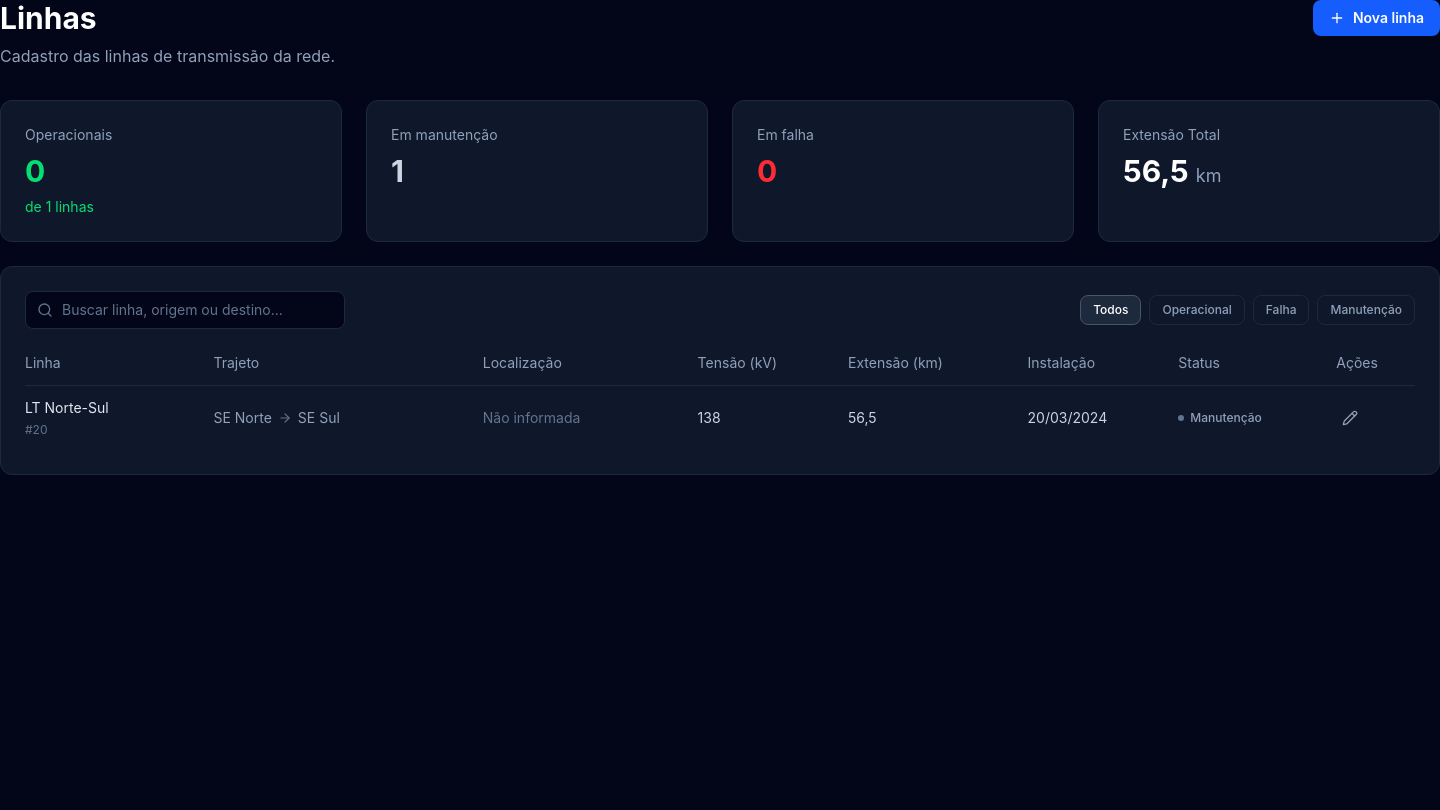
cadastro › exige os campos obrigatorios, mas nao as coordenadas
Click the button "Nova linha".
click(1376, 18)  # box [1313, 0, 1439, 36]
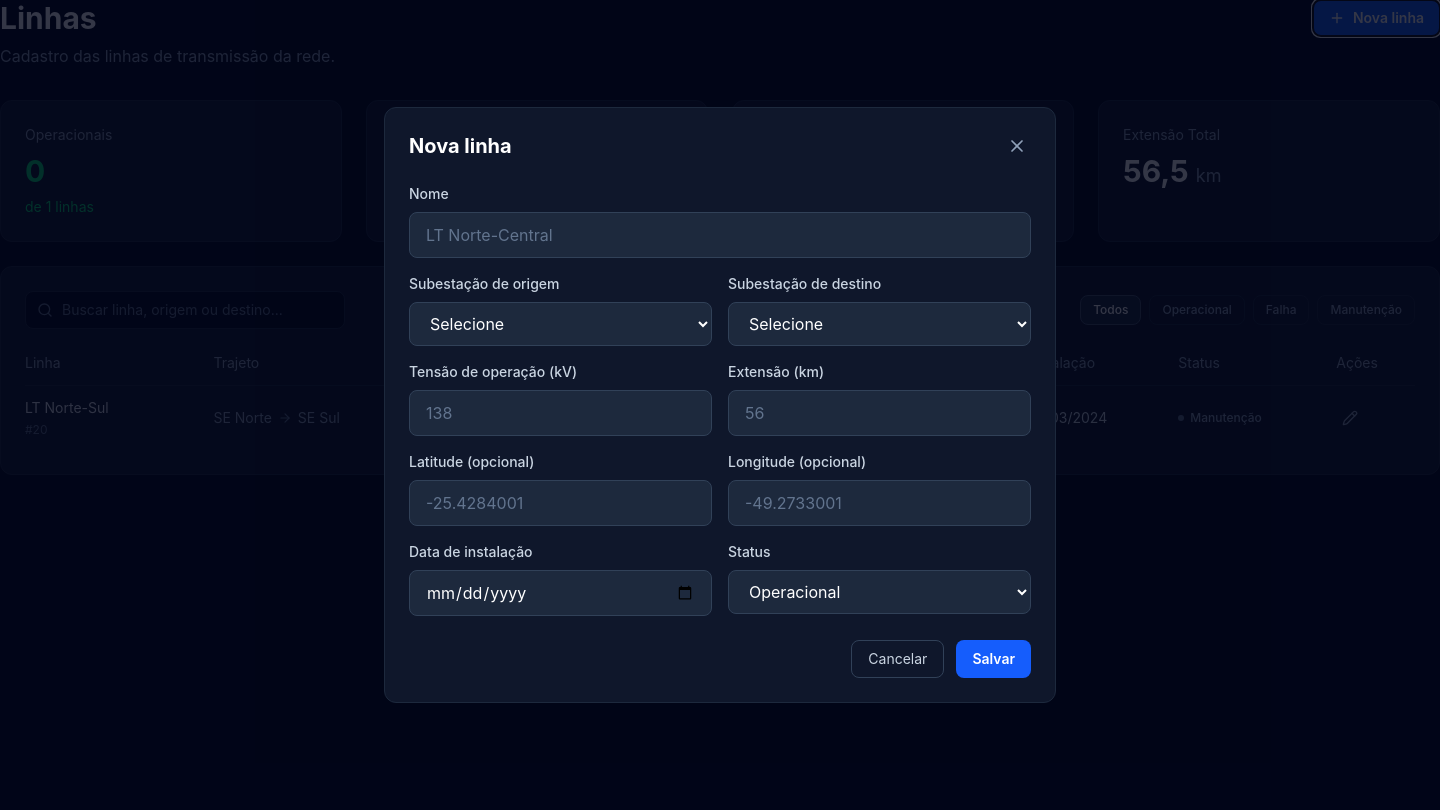
Click the button "Salvar".
click(994, 659)  # box [956, 640, 1031, 678]
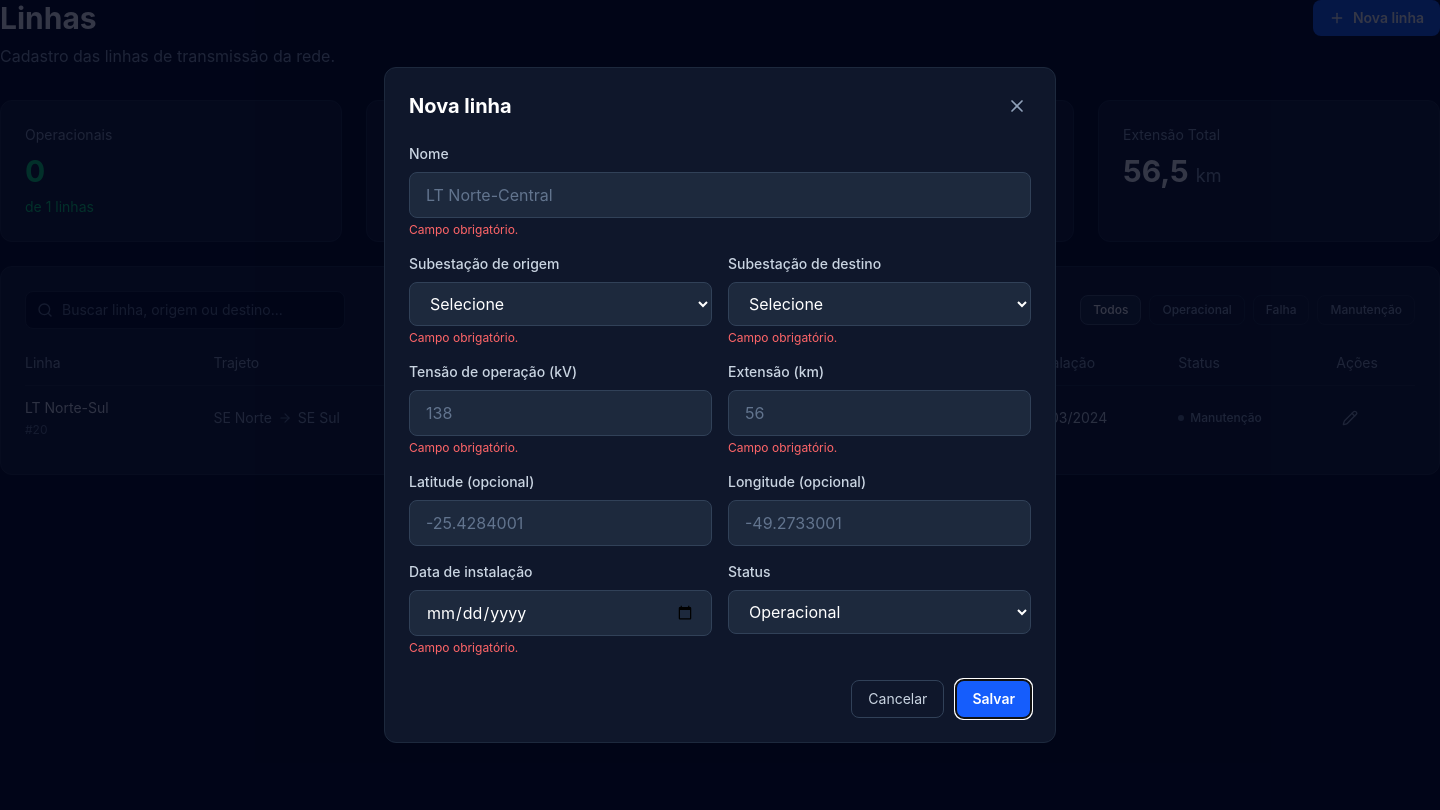
Now the text "Campo obrigatório." is shown 6 times, box [409, 222, 518, 237]; [409, 330, 518, 345]; [728, 330, 837, 345]; [409, 440, 518, 455]; [728, 440, 837, 455]; [409, 640, 518, 655]
